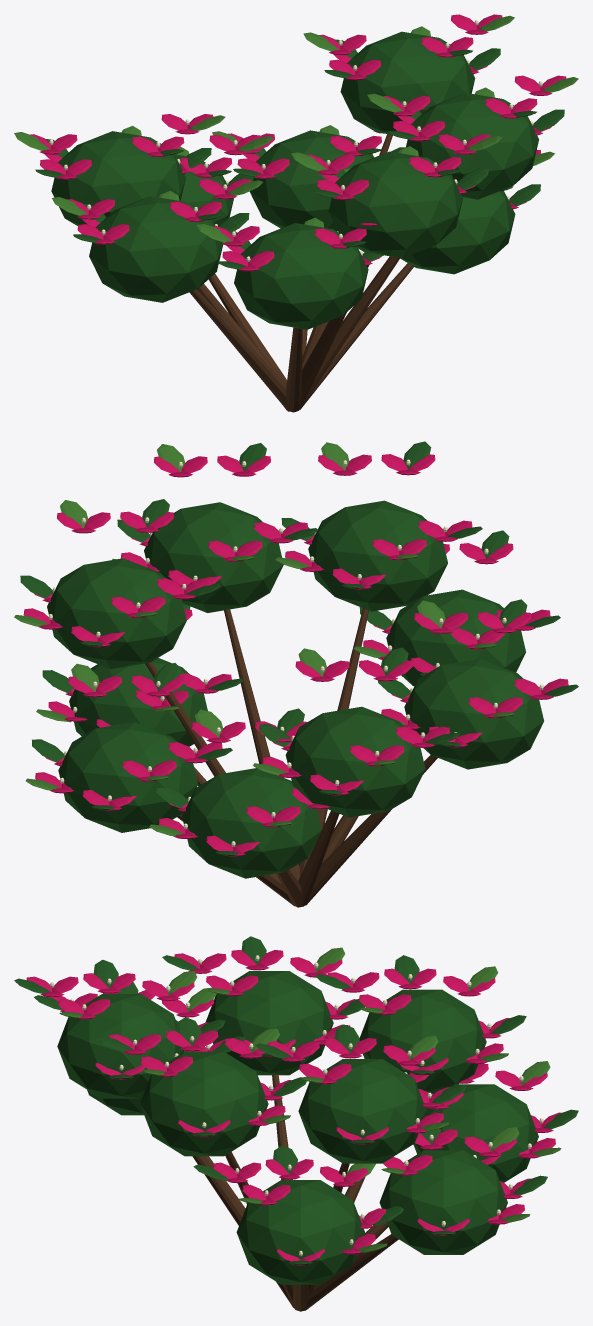
File: edited.glb
The picture shows the model from 3 angles, top to bottom: view 1: azimuth 30°, elevation 25°; view 2: azimuth 150°, elevation 25°; view 3: azimuth 270°, elevation 25°; orthographic projection. The views are drawn at different scales.
Parts seen in each view (by area): view 1: FOLIAGE_Dense.008, FOLIAGE_Dense.005, FOLIAGE_Dense.003, FOLIAGE_Dense, FOLIAGE_Dense.006, FOLIAGE_Dense.002, FOLIAGE_Dense.004, FOLIAGE_Dense.001, BRACTS_MagentaCluster.002, BRACTS_MagentaCluster.008, BRACTS_MagentaCluster.001, BRACTS_MagentaCluster.005 (+22 smaller); view 2: FOLIAGE_Dense, FOLIAGE_Dense.002, FOLIAGE_Dense.003, FOLIAGE_Dense.007, FOLIAGE_Dense.005, FOLIAGE_Dense.004, FOLIAGE_Dense.006, FOLIAGE_Dense.008, FOLIAGE_Dense.001, BRACTS_MagentaCluster.003, BRACTS_MagentaCluster.008, BRACTS_MagentaCluster.001 (+21 smaller); view 3: FOLIAGE_Dense.006, FOLIAGE_Dense, FOLIAGE_Dense.001, FOLIAGE_Dense.004, FOLIAGE_Dense.003, FOLIAGE_Dense.005, FOLIAGE_Dense.002, FOLIAGE_Dense.007, BRACTS_MagentaCluster.008, BRACTS_MagentaCluster, BRACTS_MagentaCluster.001, BRACTS_MagentaCluster.005 (+17 smaller).
Part boxes in pixels (x1,y1,x2,y2): FOLIAGE_Dense.008: (234, 223, 368, 329); FOLIAGE_Dense.005: (89, 196, 223, 302); FOLIAGE_Dense.003: (328, 151, 462, 258); FOLIAGE_Dense: (340, 31, 475, 134); FOLIAGE_Dense.006: (406, 93, 538, 199); FOLIAGE_Dense.002: (51, 131, 185, 225); FOLIAGE_Dense.004: (249, 130, 373, 231); FOLIAGE_Dense.001: (400, 191, 515, 274); BRACTS_MagentaCluster.002: (307, 134, 490, 199); BRACTS_MagentaCluster.008: (319, 14, 502, 79); BRACTS_MagentaCluster.001: (30, 114, 213, 179); BRACTS_MagentaCluster.005: (383, 75, 566, 141); FOLIAGE_Dense: (47, 558, 186, 669); FOLIAGE_Dense.002: (285, 706, 425, 817); FOLIAGE_Dense.003: (308, 500, 447, 611); FOLIAGE_Dense.007: (182, 768, 321, 878); FOLIAGE_Dense.005: (404, 658, 543, 769); FOLIAGE_Dense.004: (58, 722, 197, 832); FOLIAGE_Dense.006: (144, 502, 283, 612); FOLIAGE_Dense.008: (386, 589, 525, 686); FOLIAGE_Dense.001: (69, 658, 207, 746); BRACTS_MagentaCluster.003: (35, 675, 222, 810); BRACTS_MagentaCluster.008: (23, 511, 210, 647); BRACTS_MagentaCluster.001: (262, 660, 449, 795); FOLIAGE_Dense.006: (140, 1051, 268, 1156); FOLIAGE_Dense: (298, 1059, 426, 1163); FOLIAGE_Dense.001: (236, 1180, 364, 1284); FOLIAGE_Dense.004: (379, 1150, 507, 1254); FOLIAGE_Dense.003: (57, 994, 184, 1098); FOLIAGE_Dense.005: (205, 971, 333, 1075); FOLIAGE_Dense.002: (359, 989, 486, 1094); FOLIAGE_Dense.007: (413, 1084, 538, 1182); BRACTS_MagentaCluster.008: (267, 1038, 449, 1144); BRACTS_MagentaCluster: (213, 1159, 386, 1265); BRACTS_MagentaCluster.001: (327, 968, 509, 1075); BRACTS_MagentaCluster.005: (109, 1030, 291, 1137).
Bounding box in the file's own units: 2.22 × 1.46 × 2.2.
